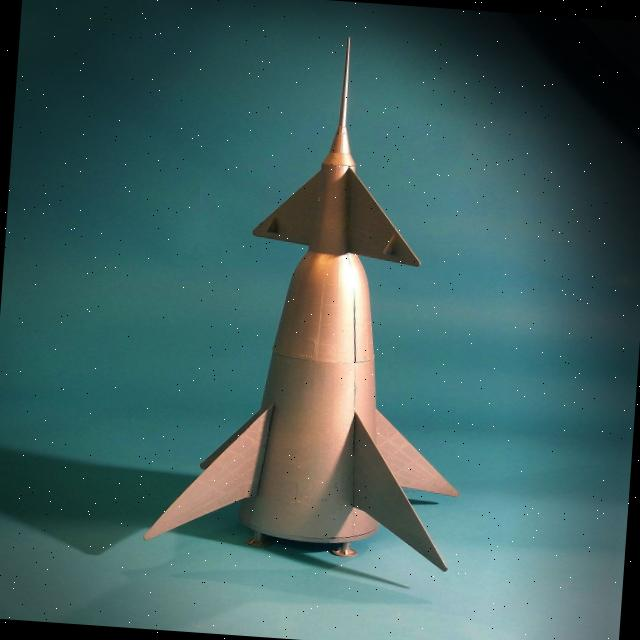rocket: (124, 16, 502, 592)
